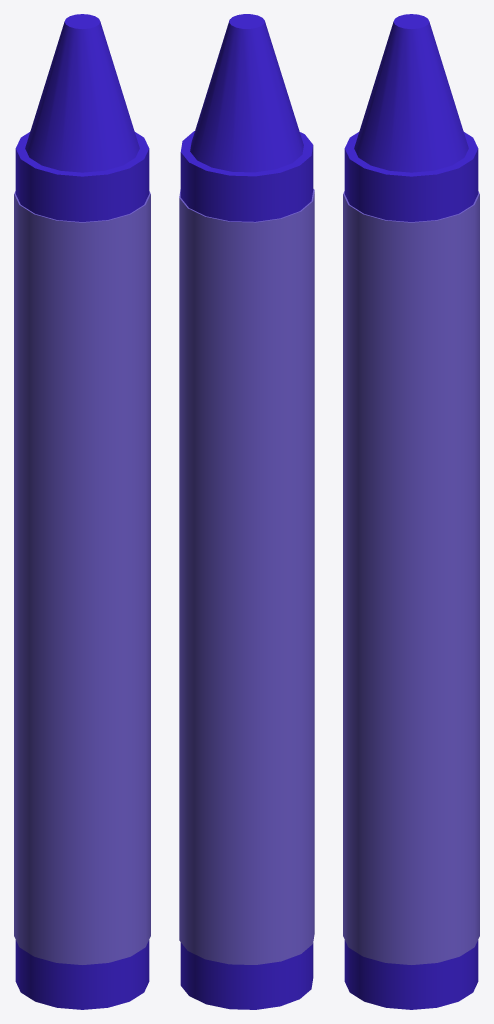
Rendered from sm_crayon.fbx.
3 views of the same model, side by side, from view 1: azimuth 90°, elevation 25°; view 2: azimuth 210°, elevation 25°; view 3: azimuth 270°, elevation 25° (orthographic).
Visible parts, largest first — view 1: paper_low, wax_low; view 2: paper_low, wax_low; view 3: paper_low, wax_low.
Boxes of the visible parts, x1,y1,x2,y2 form: paper_low: (14,191,150,964); wax_low: (15,14,149,1009); paper_low: (179,189,314,964); wax_low: (180,14,313,1009); paper_low: (343,191,479,964); wax_low: (344,14,478,1009).
Bounding box in the file's own units: 10.98 × 85.07 × 10.98.
